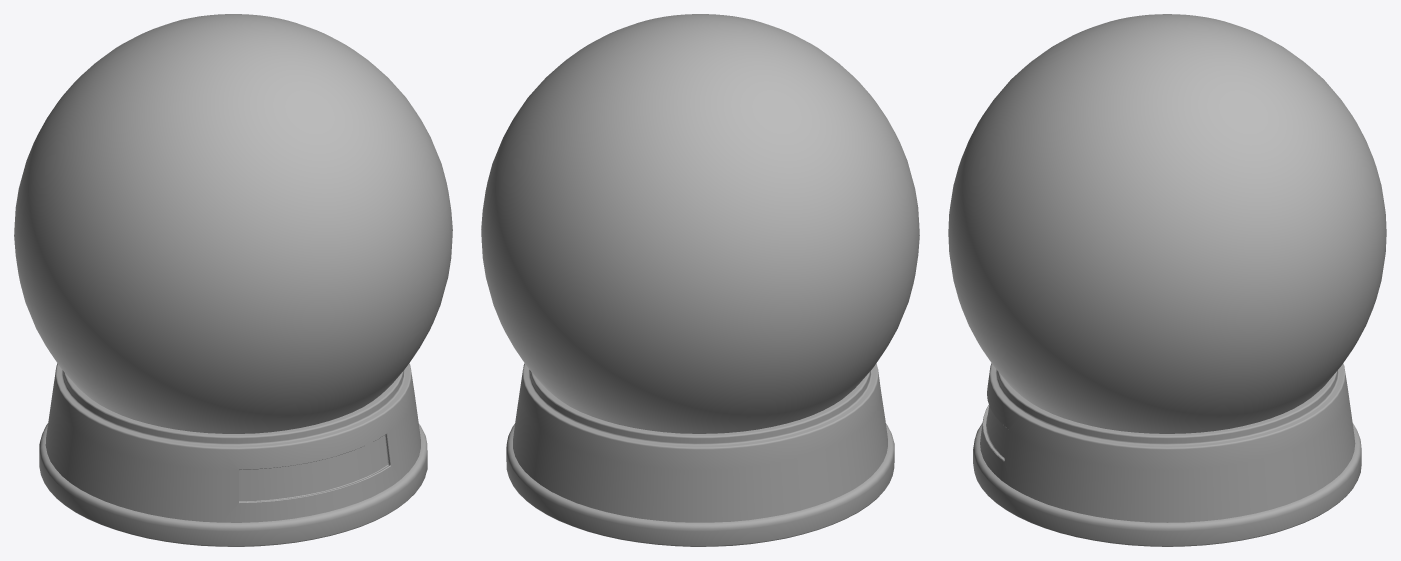
Rendered from snowglobe-transformed.glb.
3 renders of one model, left to right at view 1: azimuth 30°, elevation 25°; view 2: azimuth 150°, elevation 25°; view 3: azimuth 270°, elevation 25°, orthographic.
Parts seen in each view (by area): view 1: build_scene:build_scene:Snow_Scene_Snow_Globe:___Default1_0, build_scene:build_scene:Snow_Scene_blinn1_0; view 2: build_scene:build_scene:Snow_Scene_Snow_Globe:___Default1_0, build_scene:build_scene:Snow_Scene_blinn1_0; view 3: build_scene:build_scene:Snow_Scene_Snow_Globe:___Default1_0, build_scene:build_scene:Snow_Scene_blinn1_0.
Part boxes in pixels (x1,y1,x2,y2): build_scene:build_scene:Snow_Scene_Snow_Globe:___Default1_0: [14, 14, 452, 433]; build_scene:build_scene:Snow_Scene_blinn1_0: [39, 363, 427, 546]; build_scene:build_scene:Snow_Scene_Snow_Globe:___Default1_0: [481, 14, 919, 433]; build_scene:build_scene:Snow_Scene_blinn1_0: [506, 363, 894, 546]; build_scene:build_scene:Snow_Scene_Snow_Globe:___Default1_0: [948, 14, 1386, 433]; build_scene:build_scene:Snow_Scene_blinn1_0: [973, 363, 1361, 546].
Size of the model in its own units: 24.85 by 26.94 by 24.85.
2 materials, 2 textured.
